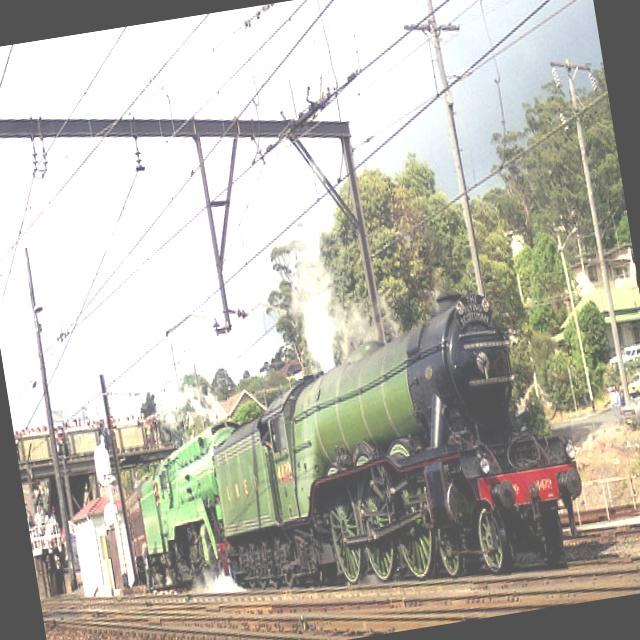Vehicle: (606, 340, 640, 366), (618, 393, 640, 432), (623, 367, 640, 397)
